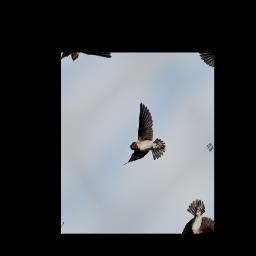Swallow: (105, 99, 174, 183)
